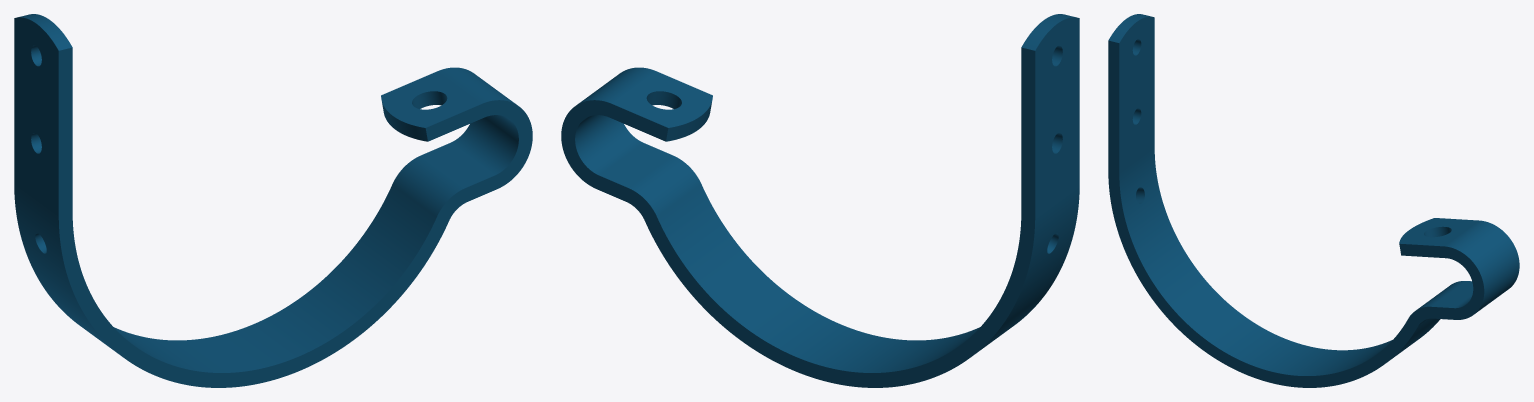
The picture shows the model from 3 angles, left to right: view 1: azimuth 30°, elevation 25°; view 2: azimuth 150°, elevation 25°; view 3: azimuth 330°, elevation 25°; orthographic projection. The views are drawn at different scales.
Parts seen in each view (by area): view 1: 101923 y x; view 2: 101923 y x; view 3: 101923 y x.
Boxes of the visible parts, <box> form: 101923 y x: <box>14,14,532,387</box>; 101923 y x: <box>561,14,1079,387</box>; 101923 y x: <box>1108,14,1519,387</box>.
Bounding box in the file's own units: 0.1535 × 0.1215 × 0.025.
